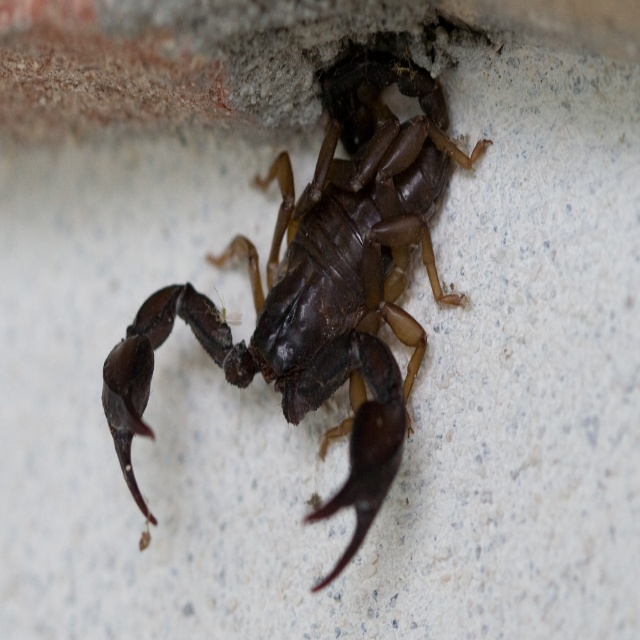Scorpion: (101, 29, 493, 593)
